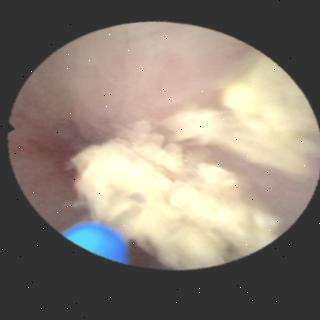fiber: (64, 223, 126, 262)
stone: (72, 131, 277, 268), (167, 56, 317, 174)
tissue: (11, 26, 257, 226), (193, 145, 315, 220)
